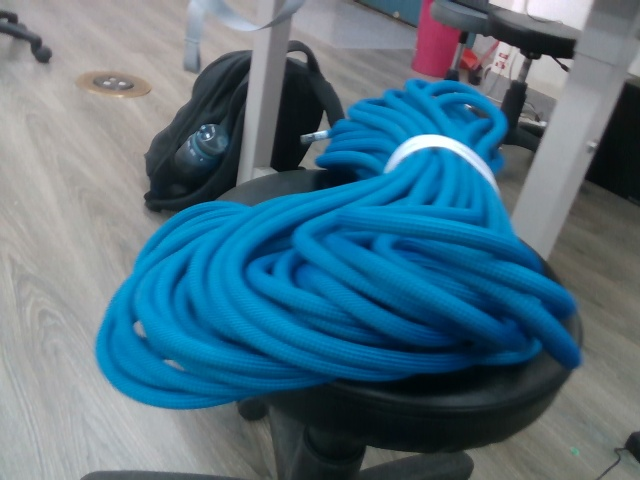rope: (94, 75, 589, 411)
